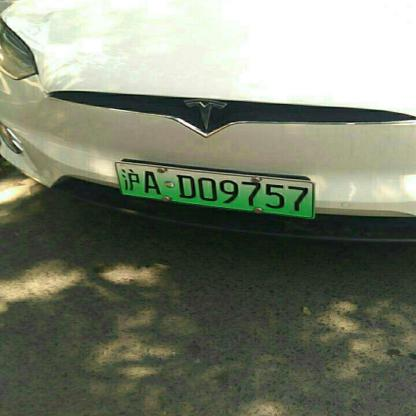lp: (116, 163, 314, 217)
